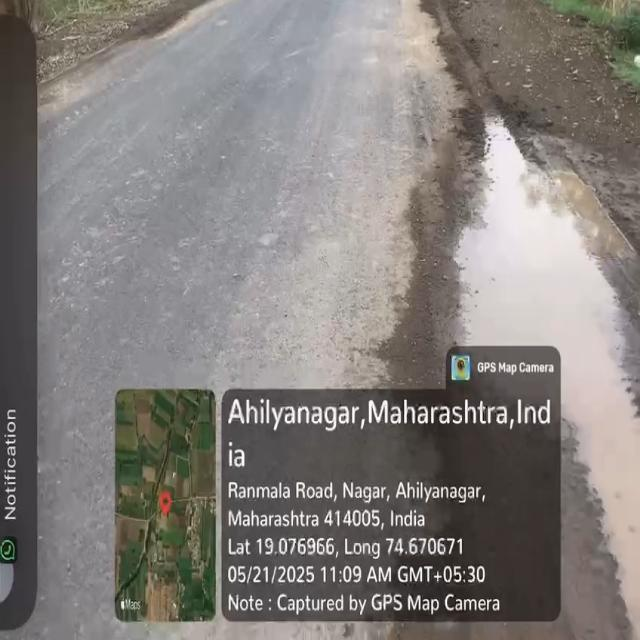pothole: (456, 92, 628, 352)
